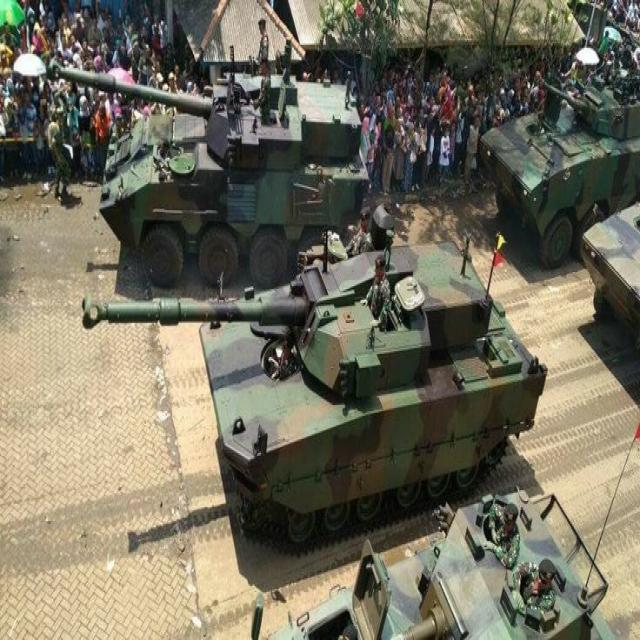tank: (64, 229, 550, 555), (48, 27, 368, 295)
